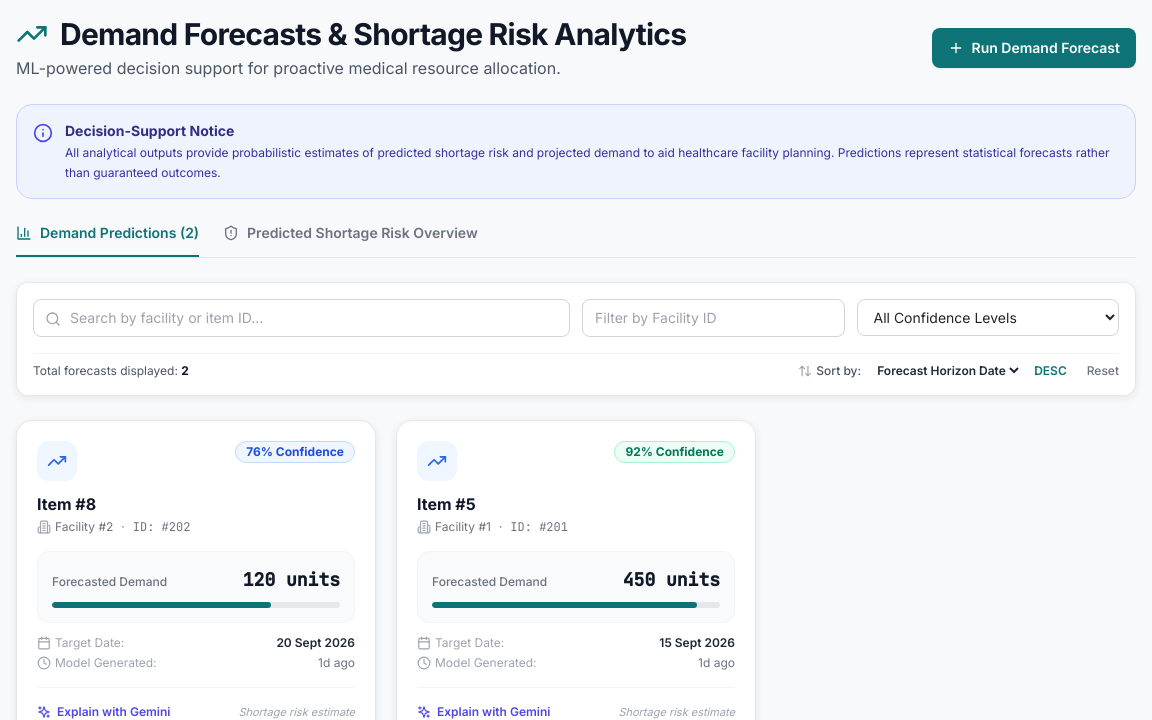
Test: PHASE 22 — Alerts & Predictions Module › Predictions Page (/predictions) › switches to Shortage Risk Overview tab and displays threshold guidance
The image size is (1152, 720).
Click the button with test id "tab-shortage-risks" at [350, 240], box [223,223,478,257]
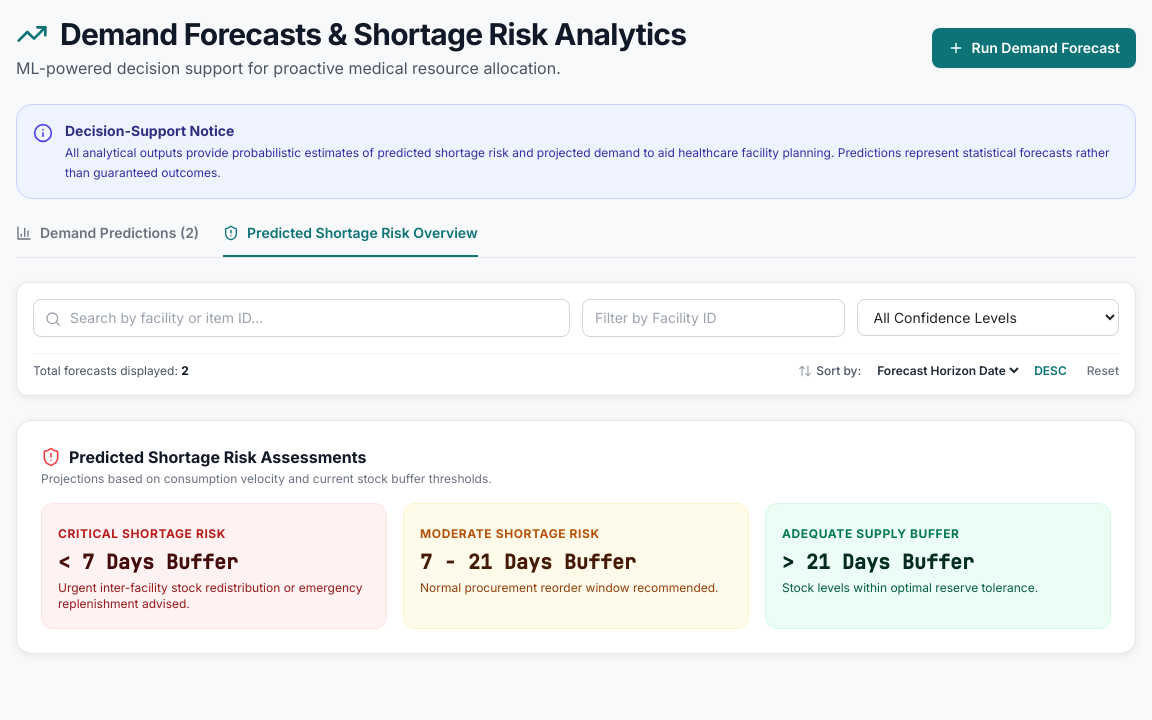
Expected: the element with test id "shortage-risks-tab" is shown, [16,420,1136,654]
Expected: the text "Critical Shortage Risk" is shown, [58,526,226,541]
Expected: the text "< 7 Days Buffer" is shown, [58,549,238,575]
